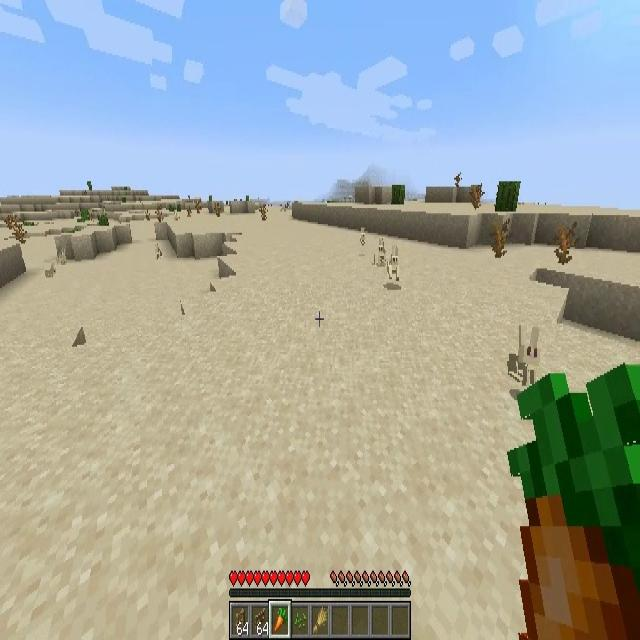rabbit: (508, 325, 540, 386), (387, 250, 400, 285), (375, 237, 386, 267), (44, 260, 56, 278), (58, 246, 66, 265), (154, 242, 162, 259), (359, 228, 366, 245)
